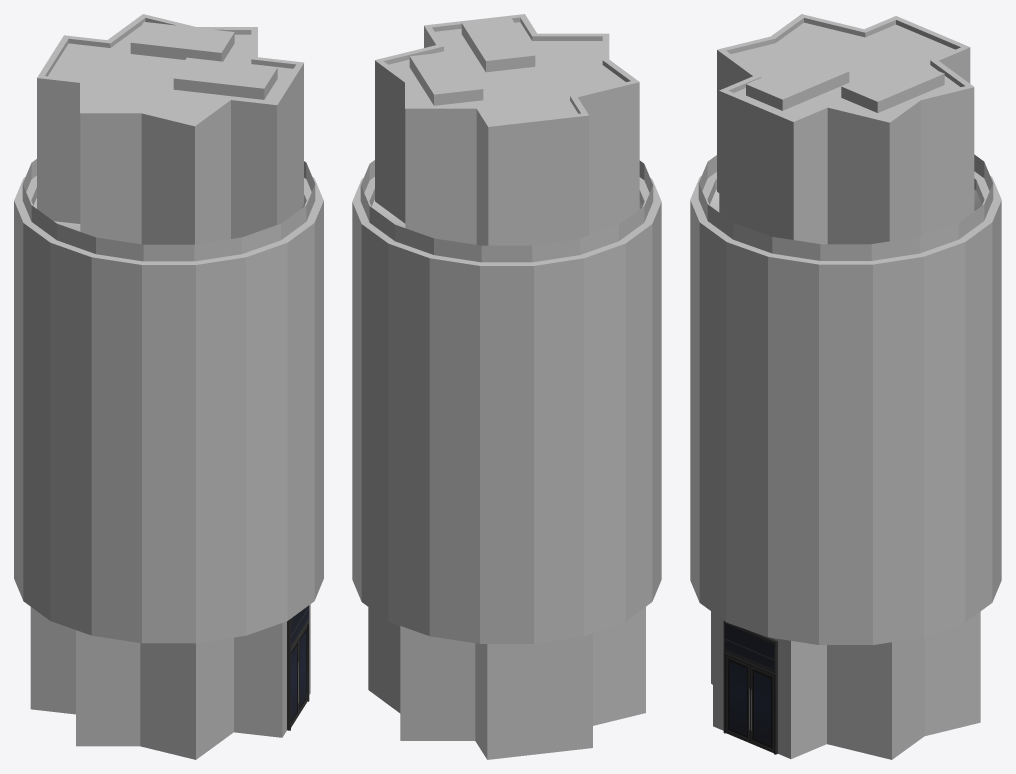
The model's file is Office_Block_lvl_4.fbx.
The picture shows the model from 3 angles, left to right: view 1: azimuth 30°, elevation 25°; view 2: azimuth 150°, elevation 25°; view 3: azimuth 270°, elevation 25°; orthographic projection.
Visible parts, largest first — view 1: Office_Block_lvl_4, Office_Block_lvl_4_Fence, Door; view 2: Office_Block_lvl_4, Office_Block_lvl_4_Fence; view 3: Office_Block_lvl_4, Door, Office_Block_lvl_4_Fence.
Part boxes in pixels (left/top/right/bottom): Office_Block_lvl_4: left=14, top=14, right=323, bottom=759; Office_Block_lvl_4_Fence: left=22, top=159, right=315, bottom=261; Door: left=287, top=605, right=309, bottom=730; Office_Block_lvl_4: left=352, top=14, right=661, bottom=759; Office_Block_lvl_4_Fence: left=360, top=160, right=653, bottom=262; Office_Block_lvl_4: left=690, top=14, right=1001, bottom=759; Door: left=723, top=621, right=777, bottom=754; Office_Block_lvl_4_Fence: left=698, top=154, right=993, bottom=260.
Size of what is drawn, in the model's own units: 883 by 2036 by 897.
